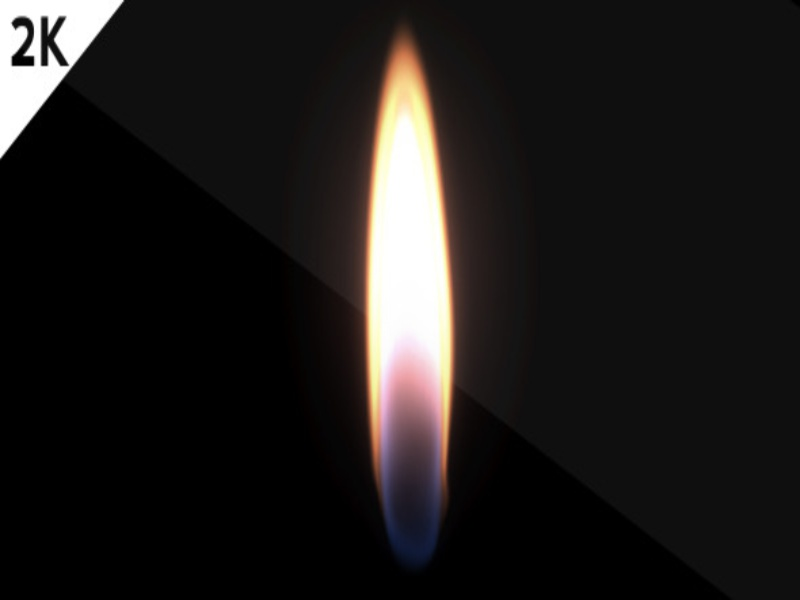fire: (363, 60, 454, 534)
